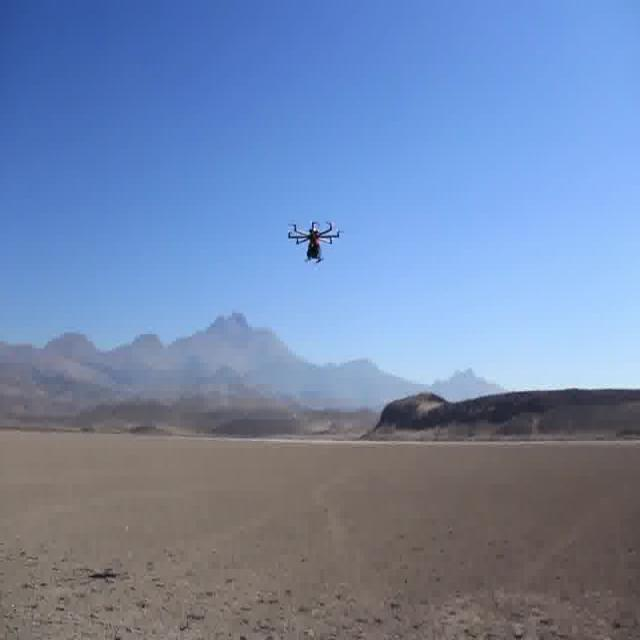drone: (285, 207, 344, 274)
